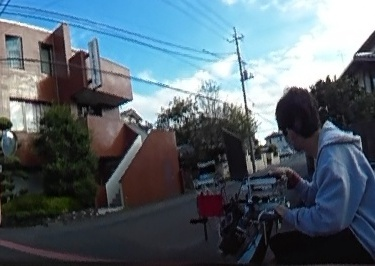person: (247, 87, 375, 266)
